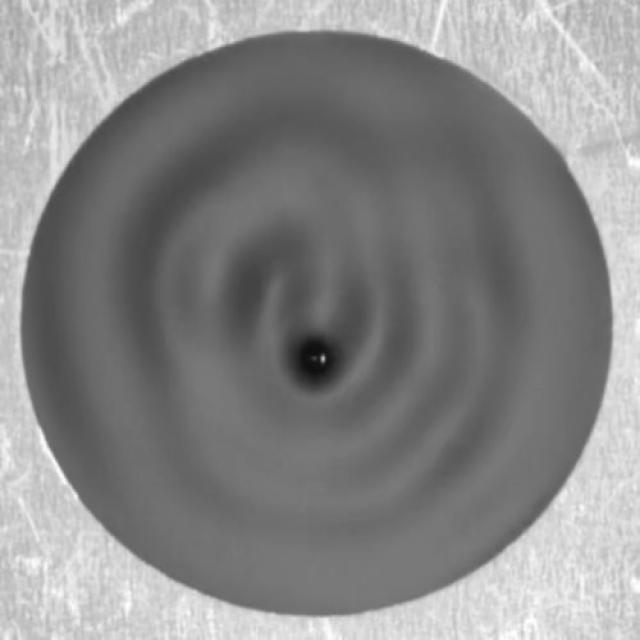droplet: (300, 339, 332, 379)
